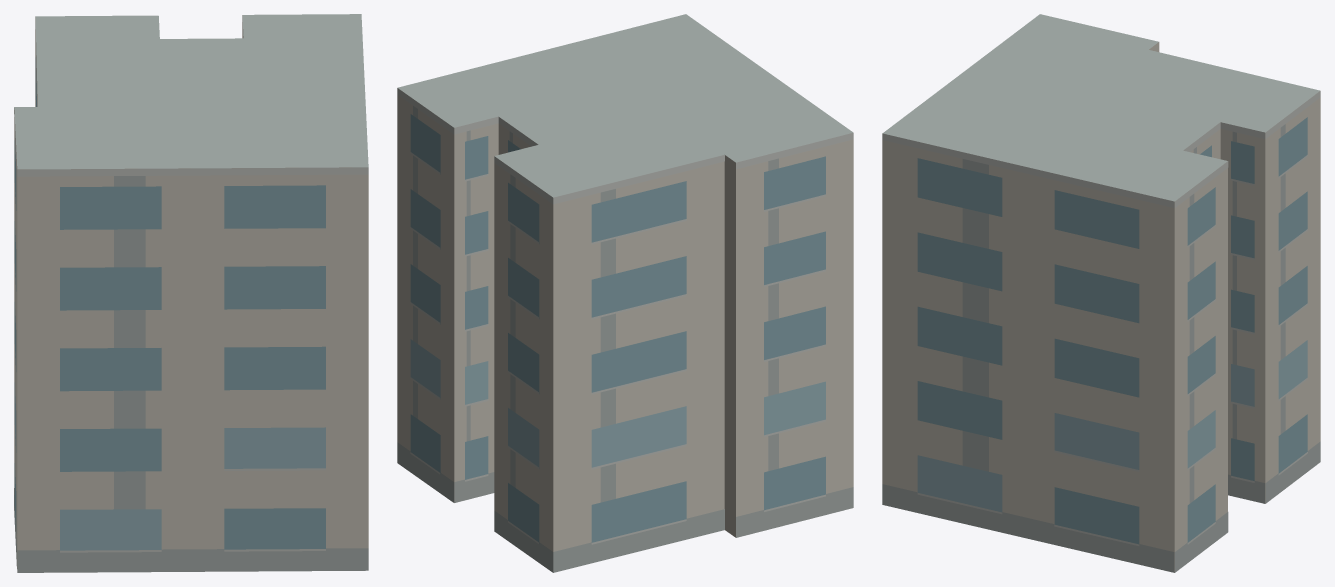
Rendered from survey-upis-33002725.glb.
3 renders of one model, left to right at view 1: azimuth 30°, elevation 25°; view 2: azimuth 150°, elevation 25°; view 3: azimuth 270°, elevation 25°, orthographic. The views are drawn at different scales.
Visible parts, largest first — view 1: survey-upis-33002725.tmp; view 2: survey-upis-33002725.tmp; view 3: survey-upis-33002725.tmp.
Part boxes in pixels (bbox=[...]): survey-upis-33002725.tmp: bbox=[14, 14, 368, 572]; survey-upis-33002725.tmp: bbox=[397, 14, 853, 572]; survey-upis-33002725.tmp: bbox=[882, 14, 1320, 572].
Size of the model in its own units: 14.74 by 13.6 by 14.55.
